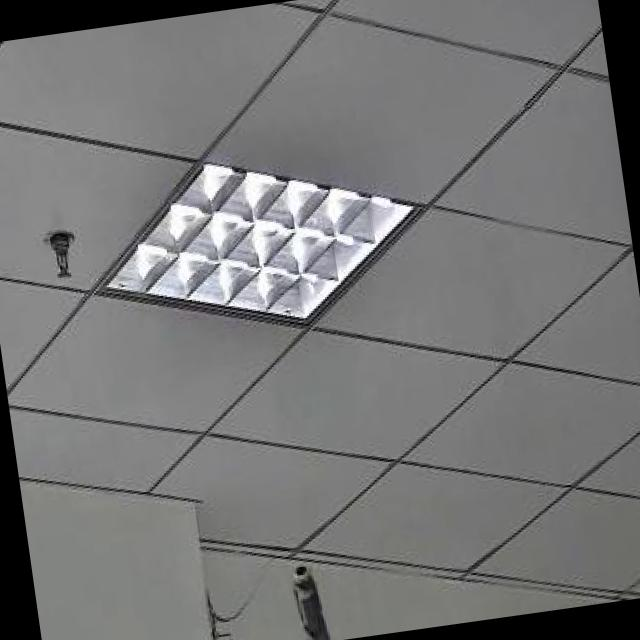Guns: (255, 529, 398, 640)
